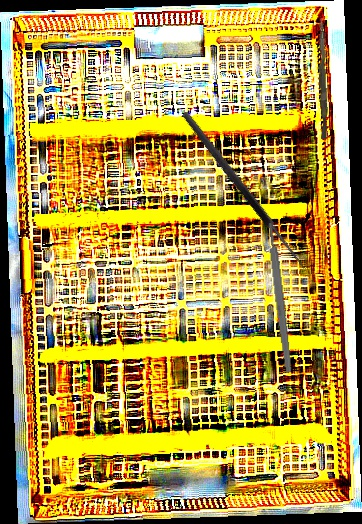Hook Surgical: (180, 104, 318, 273)
Pusher: (314, 17, 331, 140)
Scalpel Handle: (265, 222, 294, 373)
